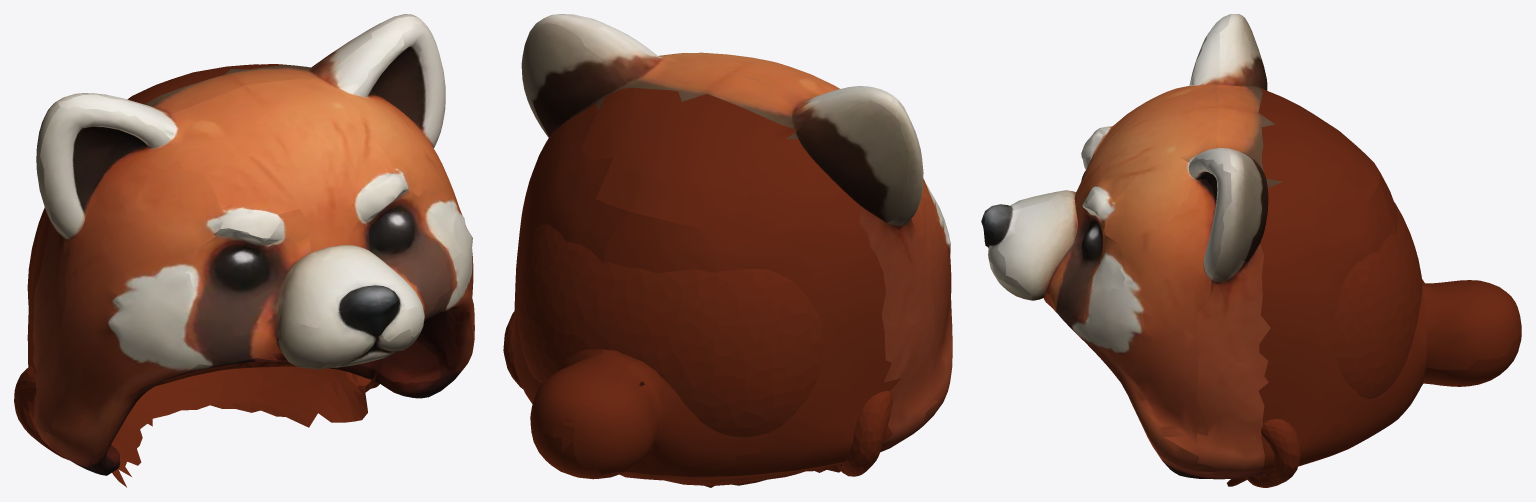
File: red-panda.glb
3 views of the same model, side by side, from view 1: azimuth 30°, elevation 25°; view 2: azimuth 150°, elevation 25°; view 3: azimuth 270°, elevation 25° (orthographic). The views are drawn at different scales.
Visible parts, largest first — view 1: geometry_0, HoodAnatomicalLining; view 2: geometry_0, HoodAnatomicalLining; view 3: geometry_0, HoodAnatomicalLining.
Boxes of the visible parts, x1,y1,x2,y2 form: geometry_0: [27, 14, 474, 475]; HoodAnatomicalLining: [14, 207, 382, 487]; geometry_0: [514, 14, 952, 480]; HoodAnatomicalLining: [503, 224, 892, 487]; geometry_0: [981, 14, 1521, 479]; HoodAnatomicalLining: [1227, 202, 1422, 487].
Bounding box in the file's own units: 0.5395 × 0.5119 × 0.7046.
2 materials, 1 textured.
